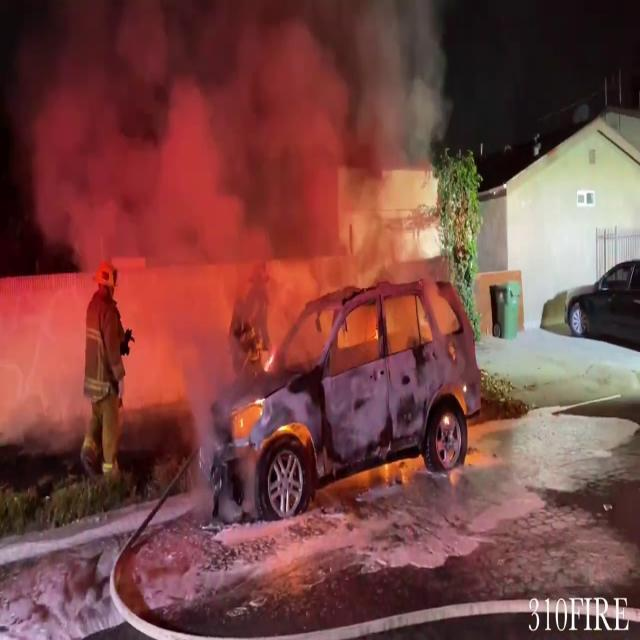Smoke: (5, 0, 452, 253)
